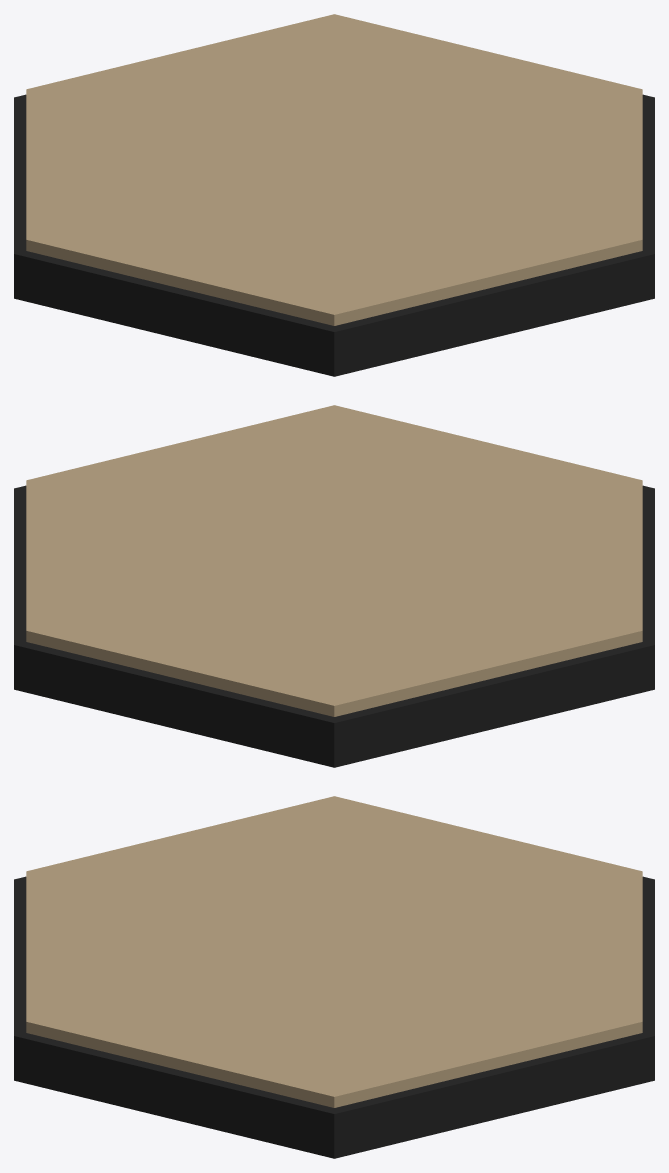
File: tile.fbx
3 renders of one model, top to bottom at view 1: azimuth 30°, elevation 25°; view 2: azimuth 150°, elevation 25°; view 3: azimuth 270°, elevation 25°, orthographic.
Parts seen in each view (by area): view 1: Group3, Group2; view 2: Group3, Group2; view 3: Group3, Group2.
Part boxes in pixels (bbox=[...]): Group3: bbox=[26, 14, 642, 325]; Group2: bbox=[14, 94, 654, 376]; Group3: bbox=[26, 405, 642, 716]; Group2: bbox=[14, 485, 654, 767]; Group3: bbox=[26, 796, 642, 1107]; Group2: bbox=[14, 876, 654, 1158].
Size of the model in its own units: 1200 by 100 by 1039.
